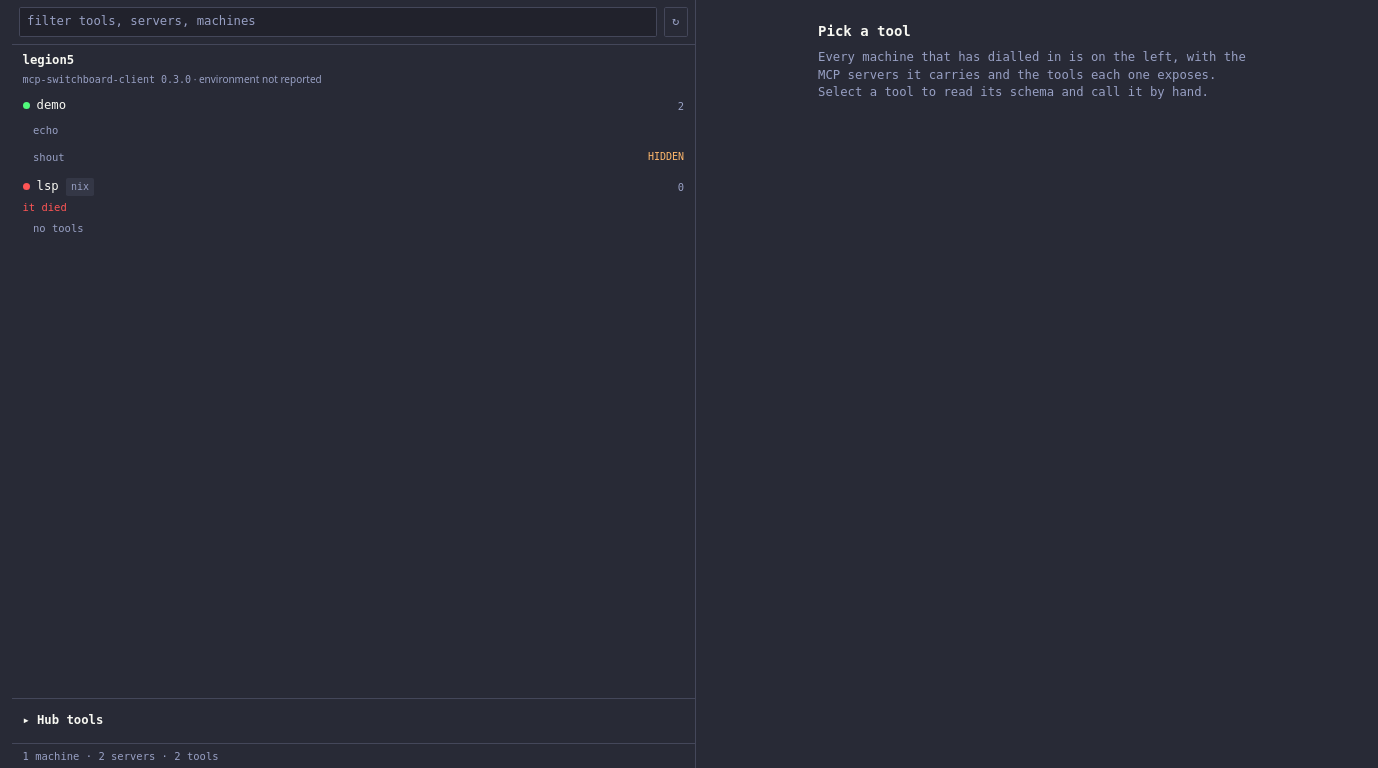
it: Connections › says when the selected tool has gone away
Click the list item "echo" at coordinates (46, 130), box [26,118,691,142]
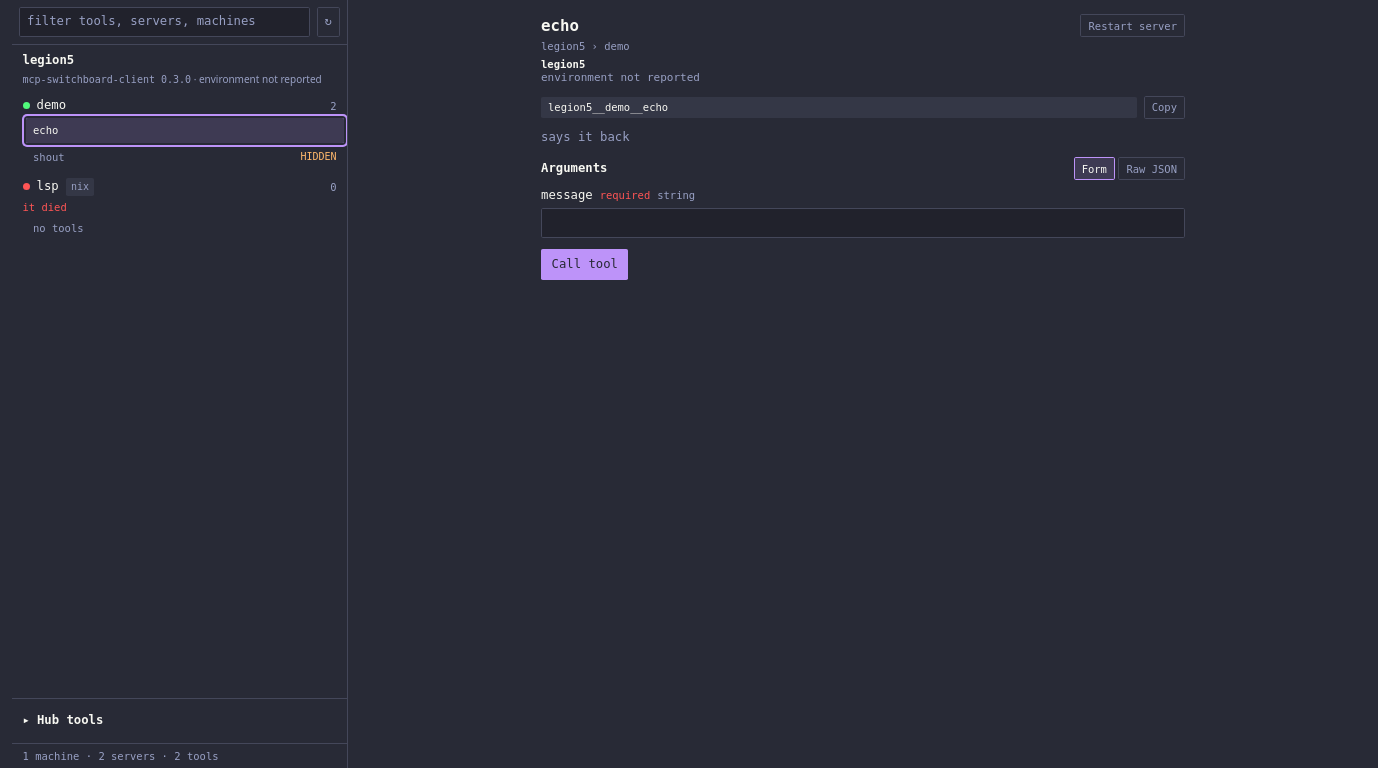
Now the heading "echo" is shown, box [541,16,579,35]
Click the button named "Refresh" at coordinates (328, 22), box [317,7,340,37]
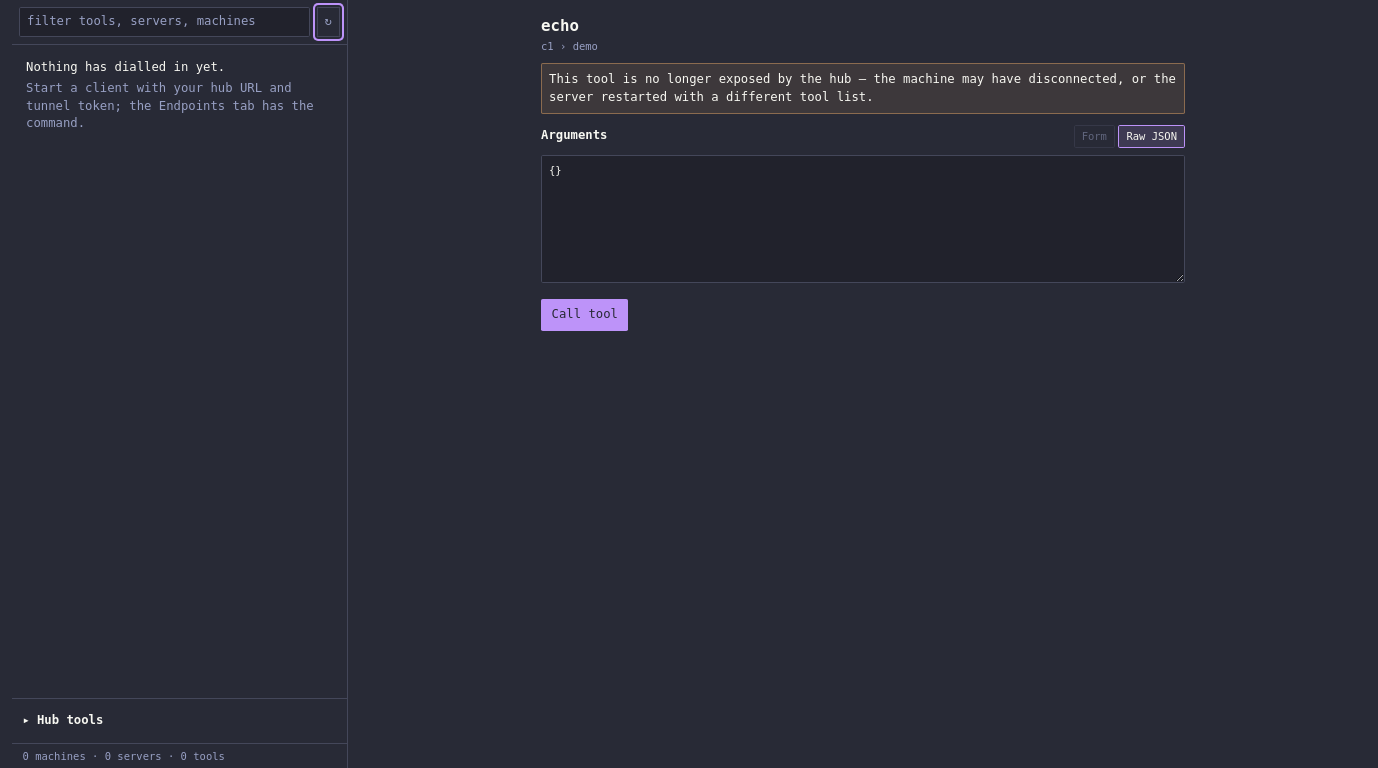
Now the text "no longer exposed by the hub" is shown, box [549,72,1176,104]
